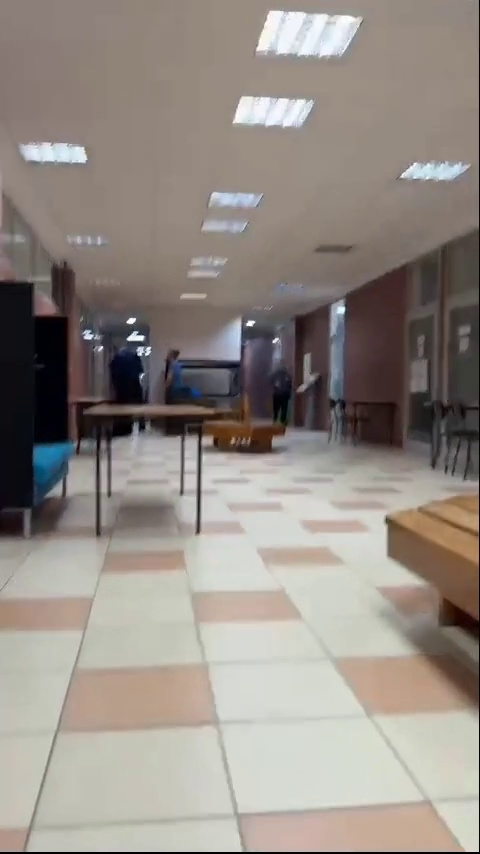no vest: (152, 348, 203, 408), (259, 354, 295, 426), (107, 339, 144, 403)
